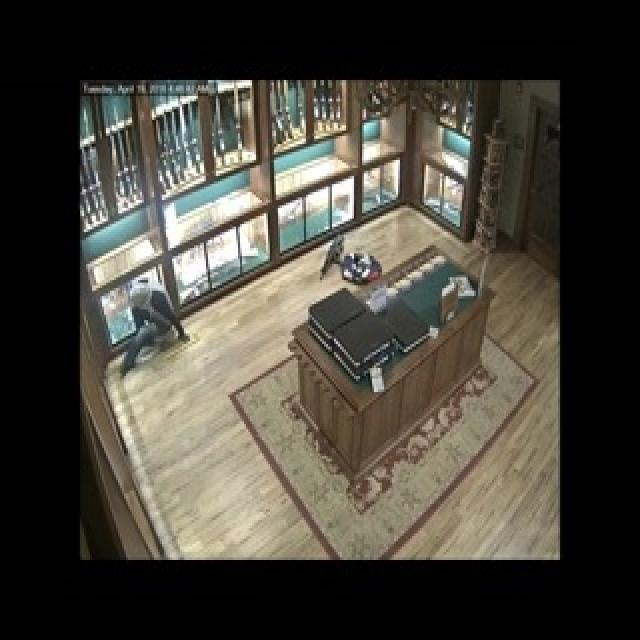thief: (114, 267, 182, 377)
